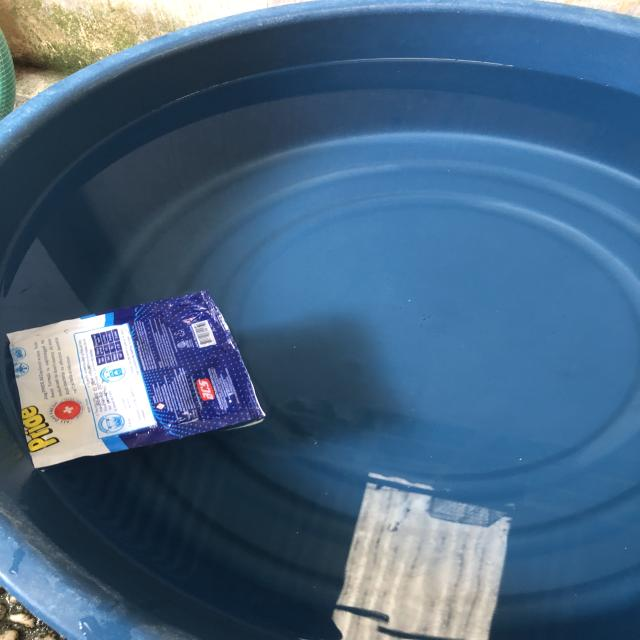Plastic Wrapper: (0, 276, 301, 483)
